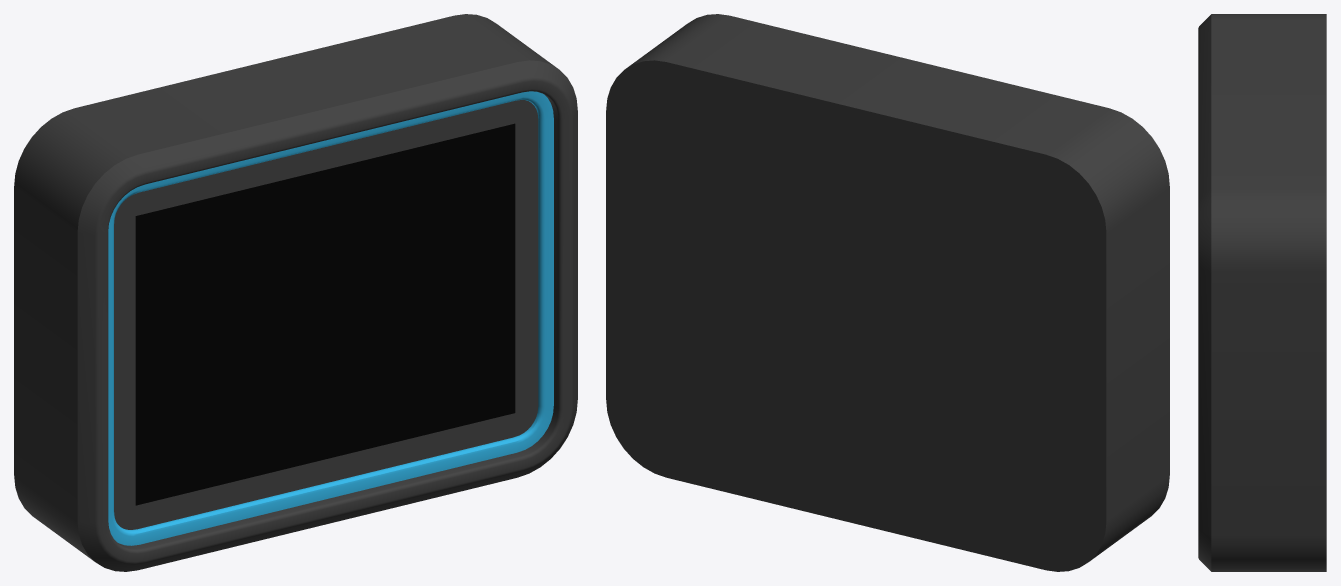
The model's file is DiveComputer.fbx.
The picture shows the model from 3 angles, left to right: view 1: azimuth 30°, elevation 25°; view 2: azimuth 150°, elevation 25°; view 3: azimuth 270°, elevation 25°; orthographic projection. The views are drawn at different scales.
Parts seen in each view (by area): view 1: Main; view 2: Main; view 3: Main.
Part boxes in pixels (x1=…): Main: x1=14, y1=14, x2=577, y2=571; Main: x1=606, y1=14, x2=1169, y2=571; Main: x1=1198, y1=14, x2=1326, y2=571.
Size of the model in its own units: 13.23 by 10.5 by 3.23.
